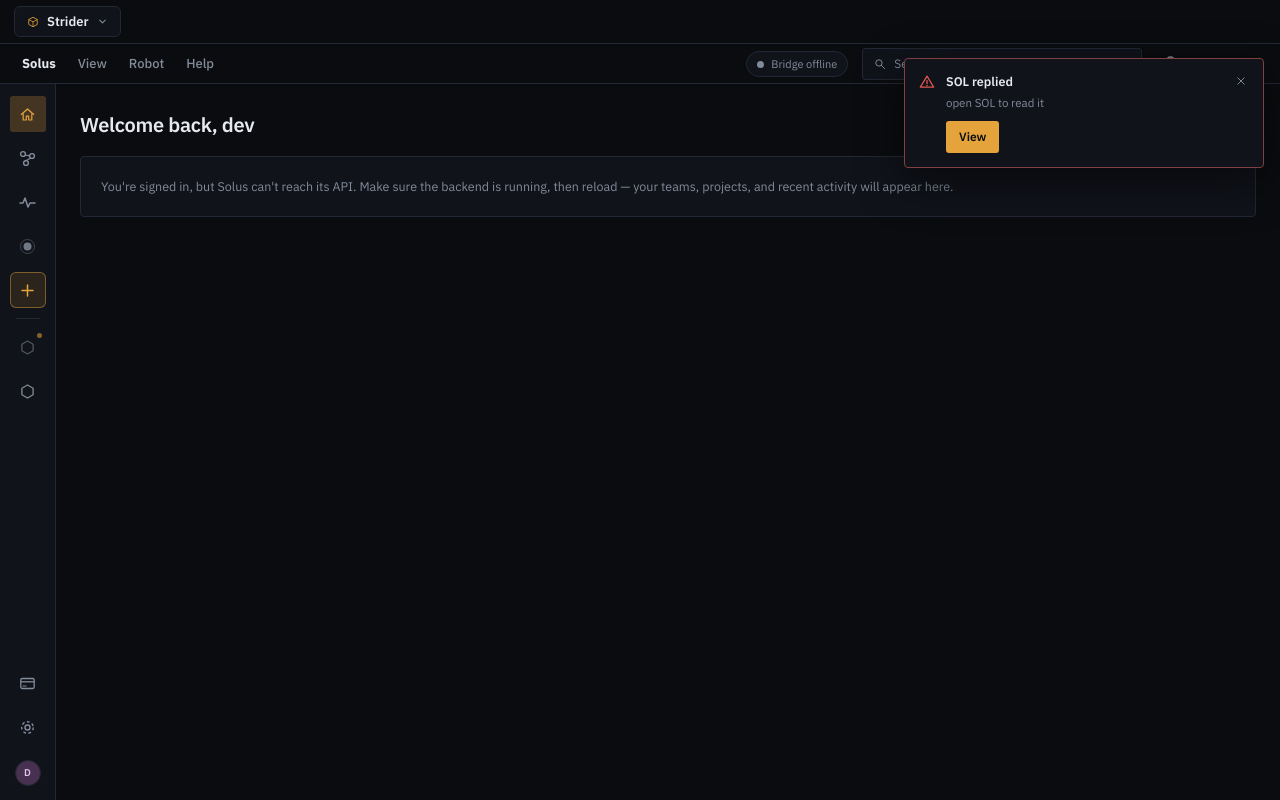
Scenario: WorkspaceShell — nothing carries across a project switch (SOLUSDEV-242) › drops a toast raised under the previous project
Check: the text "SOL replied" is shown, box [946,73,1013,89]
Click the button with aria-label "switch project" at (67, 22), box [14,6,121,37]
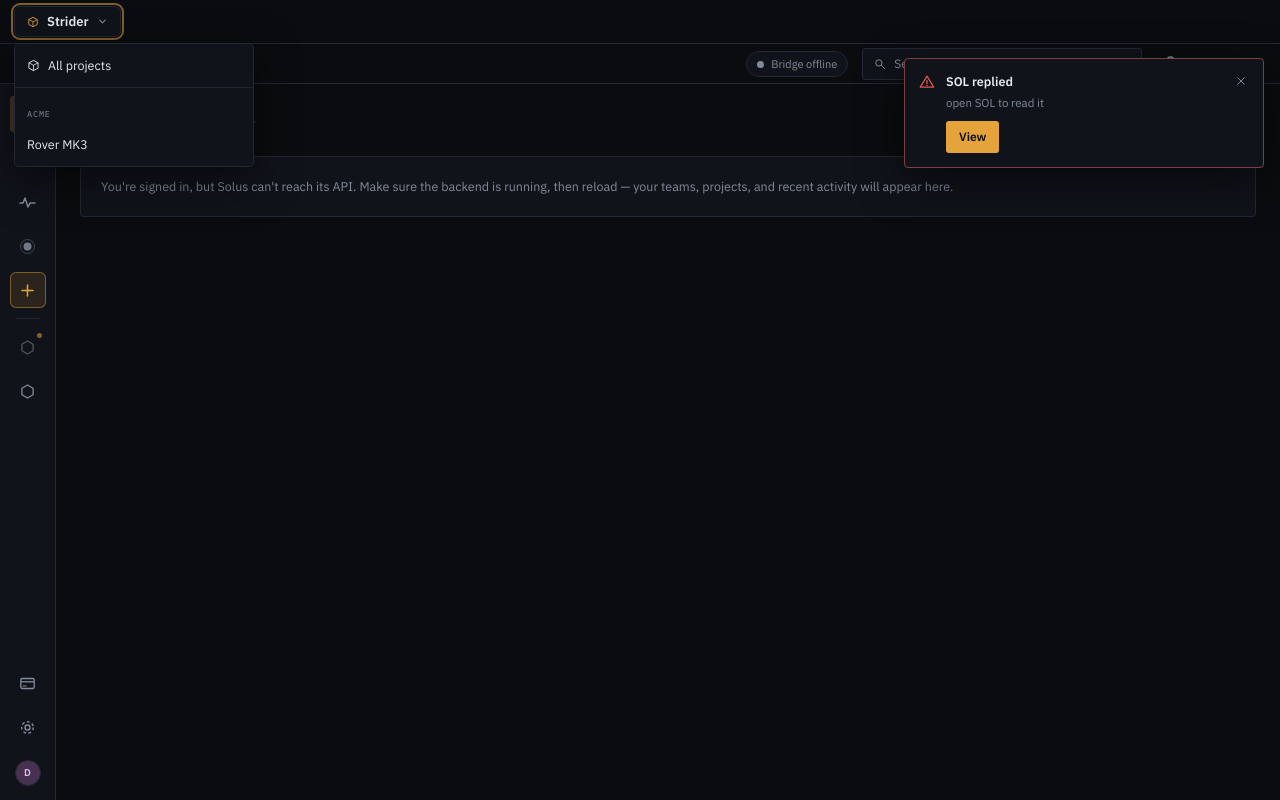
Click the menu item "Rover MK3" at (134, 144), box [15,127,253,162]
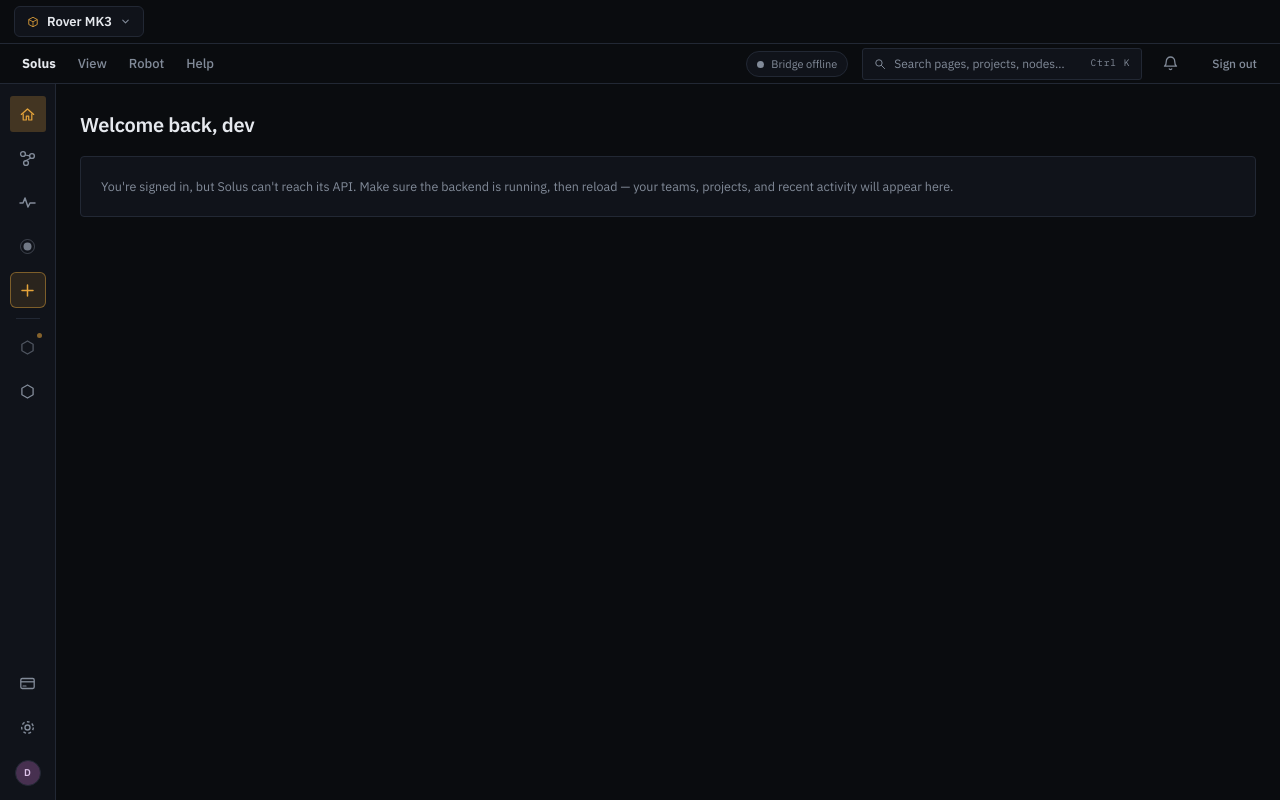
Check: the text "SOL replied" is gone
